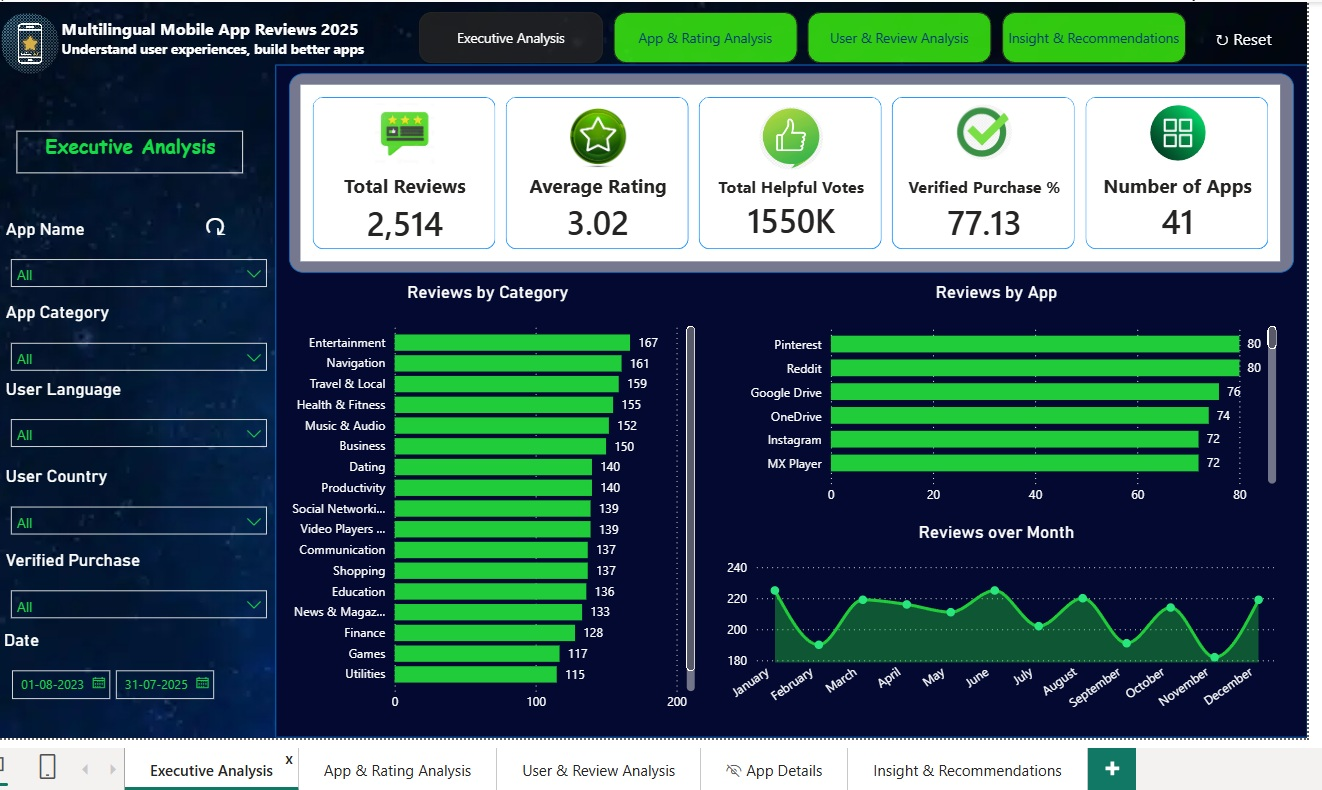

This screenshot's page, from the dashboard's own definition file:
{"tool":"powerbi","page":{"name":"Executive Analysis","canvas":[1280,720],"ordinal":0},"visuals":[{"type":"image","box":[0,0,1280,720],"z":0},{"type":"image","box":[2.7,11,56.3,59],"z":1000},{"type":"textbox","box":[56.3,9.6,318.4,52.1],"z":2000},{"type":"slicer","title":"App Name","fields":{"Values":["multilingual_mobile_app_reviews_2025.App_name"]},"box":[3.8,211.7,266.2,67],"z":3000},{"type":"slicer","title":"App Category","fields":{"Values":["multilingual_mobile_app_reviews_2025.App_category"]},"box":[3.8,294,266.2,67],"z":4000},{"type":"slicer","title":"User Language","fields":{"Values":["multilingual_mobile_app_reviews_2025.Review_language"]},"box":[4.1,367.8,266.2,67],"z":5000},{"type":"slicer","title":"User Country","fields":{"Values":["multilingual_mobile_app_reviews_2025.User_country"]},"box":[4.1,454.2,266.2,67],"z":6000},{"type":"slicer","title":"Verified Purchase","fields":{"Values":["multilingual_mobile_app_reviews_2025.Verified_purchase"]},"box":[4.1,535.2,266.2,67],"z":7000},{"type":"shape","box":[270,61.4,1010,658.6],"z":8000},{"type":"cardVisual","fields":{"Data":["Measure_Table.Total_Reviews","Measure_Table.Average_Rating","Measure_Table.Total_Helpful_votes","Measure_Table.Total_verified_Purchase","Measure_Table.No_Of_Apps"]},"box":[284,69.8,983.5,195.5],"z":9000},{"type":"clusteredBarChart","title":"Reviews by App","fields":{"Category":["multilingual_mobile_app_reviews_2025.App_name"],"Y":["Measure_Table.Total Reviews"]},"box":[697,273.9,557.6,226.2],"z":10000},{"type":"clusteredBarChart","title":" Reviews by Category","fields":{"Category":["multilingual_mobile_app_reviews_2025.App_category"],"Y":["Measure_Table.Total Reviews"]},"box":[270.2,273.9,415.8,429.2],"z":11000},{"type":"areaChart","title":" Reviews over Month","fields":{"Category":["multilingual_mobile_app_reviews_2025.Review_date.Variation.Date Hierarchy.Month"],"Y":["Measure_Table.Total Reviews"]},"box":[697,508.7,557.6,194.4],"z":12000},{"type":"slicer","title":"Date","fields":{"Values":["multilingual_mobile_app_reviews_2025.Review_date"]},"box":[0,613.6,261.6,90.4],"z":14000},{"type":"pageNavigator","box":[410.4,9.7,752.5,50],"z":15000},{"type":"textbox","title":"Executive Analysis","box":[17.5,126.2,221.2,41.2],"z":16000},{"type":"actionButton","title":"↻ Reset","box":[1167.3,15.3,100.2,40.3],"z":17000},{"type":"actionButton","box":[161.4,204.2,100,40],"z":18000}]}

Visuals, with their boxes on the page's 1280x720 design canvas (x1, y1, x2, y2). These are canvas units, not pixel positions in the 1322x790 screenshot, which may show the page scaled, cropped or inside an application window:
image: 0 0 1280 720
image: 3 11 59 70
textbox: 56 10 375 62
"App Name" slicer: 4 212 270 279
"App Category" slicer: 4 294 270 361
"User Language" slicer: 4 368 270 435
"User Country" slicer: 4 454 270 521
"Verified Purchase" slicer: 4 535 270 602
shape: 270 61 1280 720
cardVisual - Measure_Table.Total_Reviews x Measure_Table.Average_Rating: 284 70 1268 265
"Reviews by App" clusteredBarChart: 697 274 1255 500
" Reviews by Category" clusteredBarChart: 270 274 686 703
" Reviews over Month" areaChart: 697 509 1255 703
"Date" slicer: 0 614 262 704
pageNavigator: 410 10 1163 60
"Executive Analysis" textbox: 18 126 239 167
"↻ Reset" actionButton: 1167 15 1268 56
actionButton: 161 204 261 244
